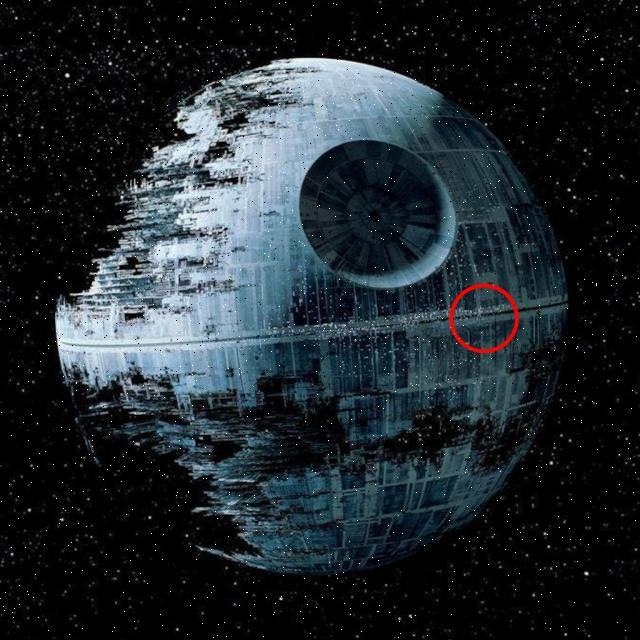Death-star: (54, 59, 572, 581)
